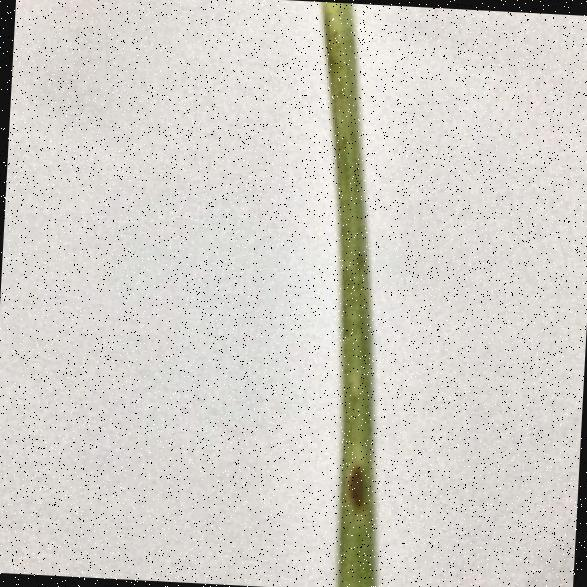Leaf_smut: (337, 445, 378, 511)
